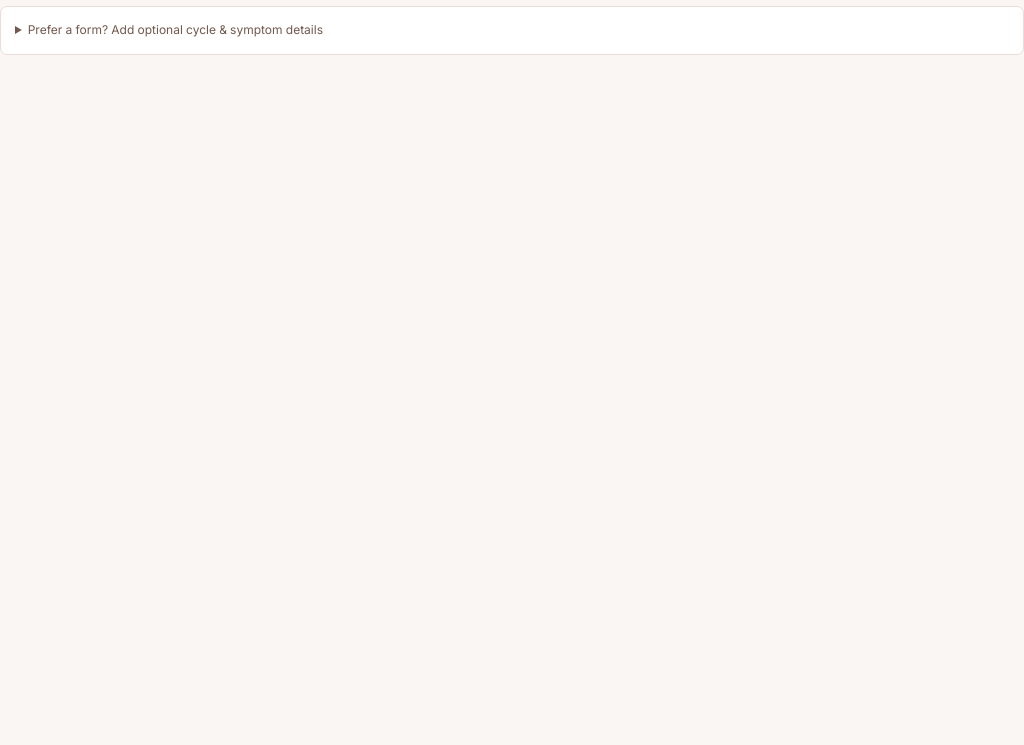
Scenario: rejects scores outside the range
Step 1. Click the heading "Prefer a form? Add optional cycle & symptom details" → [175, 30], box x1=28 y1=22 x2=323 y2=37
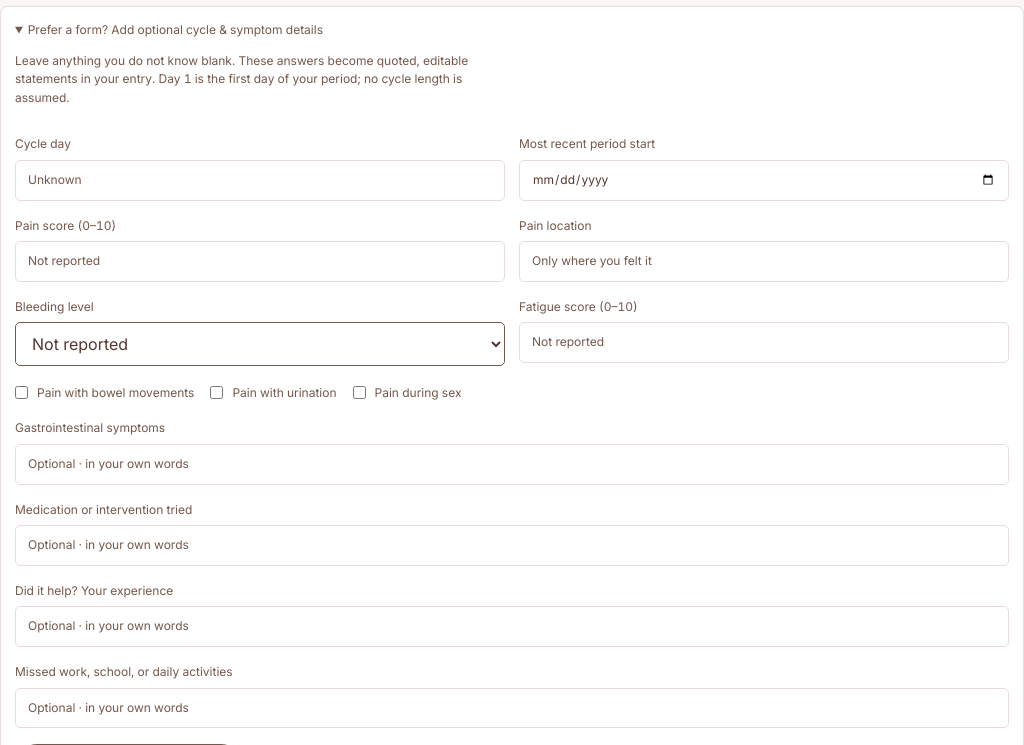
Step 2. Type "15" into the number field labelled "Pain score (0–10)" → [260, 262], box x1=15 y1=241 x2=505 y2=282
(page scrolled)
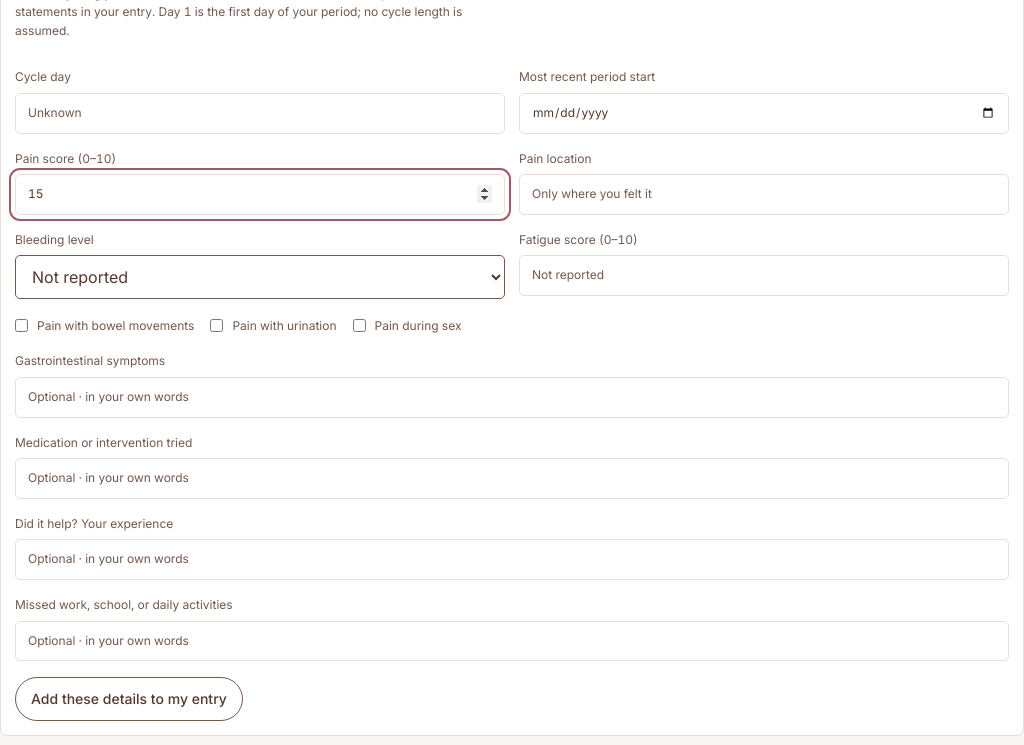
Step 3. Click the button "Add these details to my entry" → [129, 699], box x1=15 y1=677 x2=243 y2=721
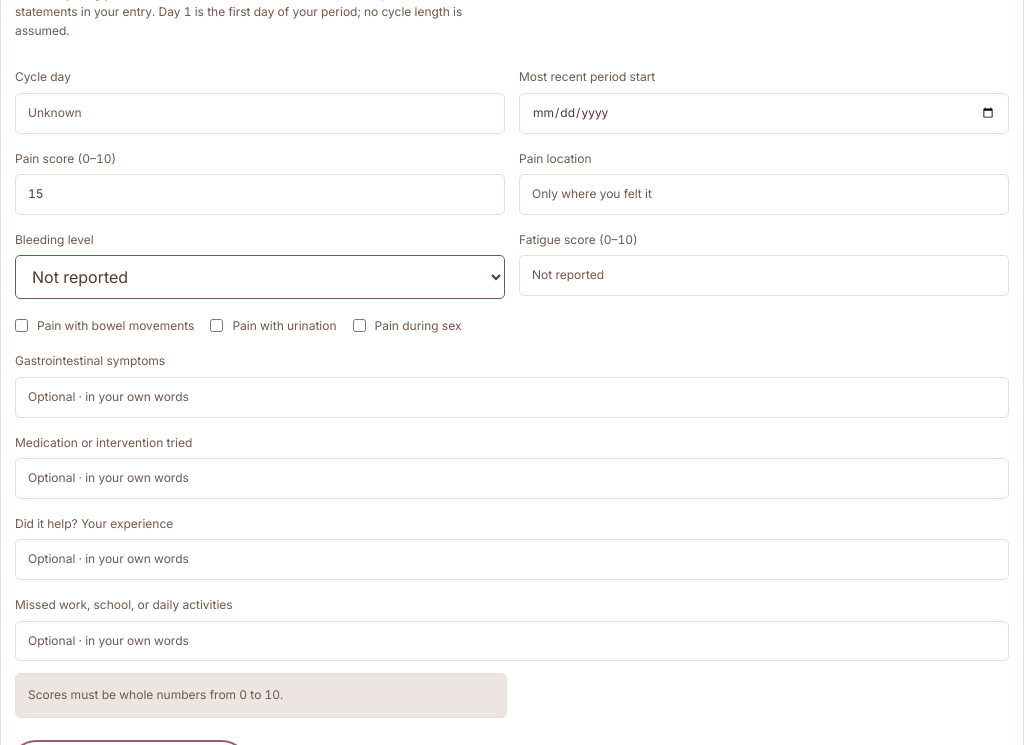
Now the message shows "0 to 10", box x1=28 y1=687 x2=283 y2=702
